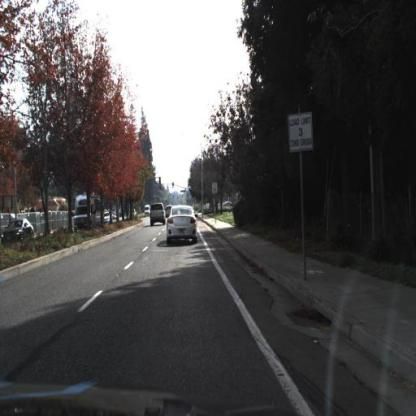car: (164, 199, 204, 250), (1, 221, 37, 243), (149, 202, 167, 229), (167, 204, 175, 218)
trafficLight-Green: (172, 182, 177, 190)
trafficLight-RedLeft: (159, 182, 162, 190)
truck: (72, 193, 111, 237), (144, 204, 152, 217)
